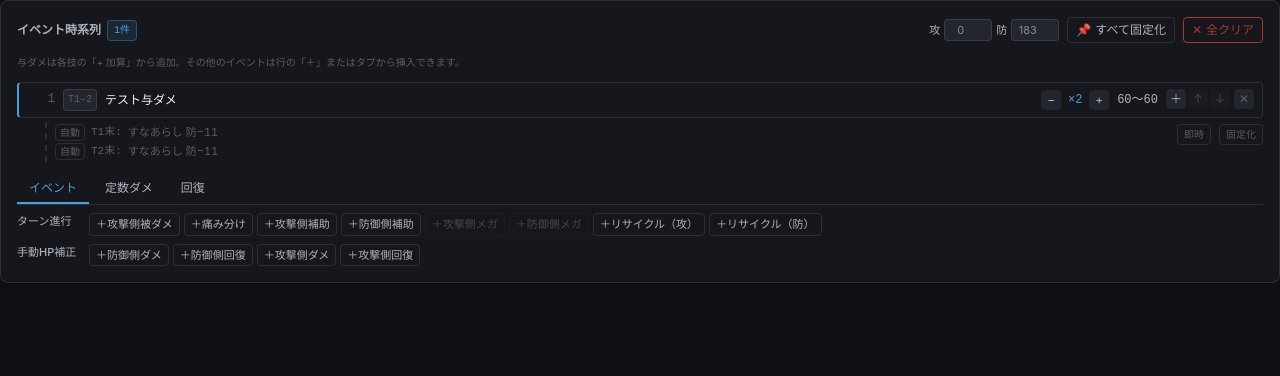
DamageProgressionPanel のゴースト行 › ゴースト行の「固定化」でゴーストが消え、source=pinned の手動イベントに変わる
This screenshot has width=1280, height=376.
Expected: the element named "自動適用" is shown, [45,122,1263,162]
Click the button "固定化" at (1241, 134), box [1219,124,1263,145]
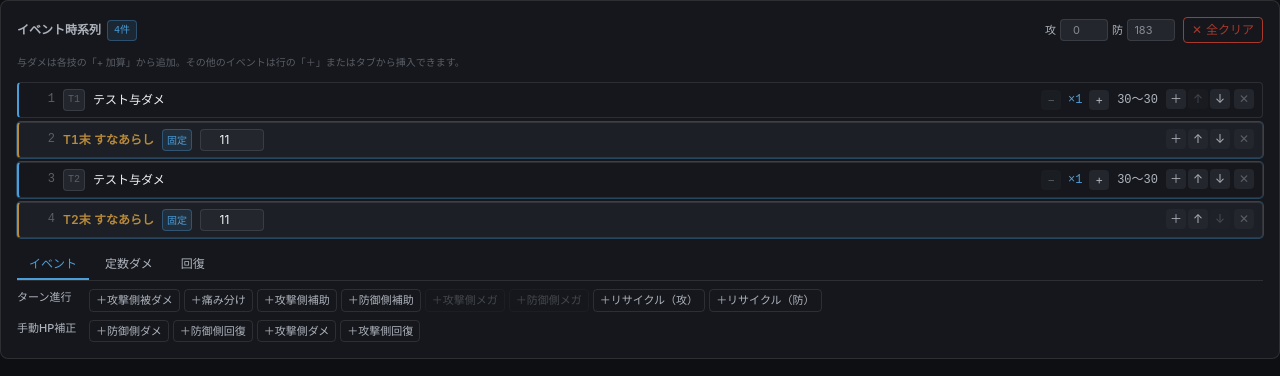
Result: no fields labelled "自動適用" are shown
Result: the number of elements titled "常時効果を固定化して生成された行" is 2 at [162,129,192,151]; [162,209,192,231]
